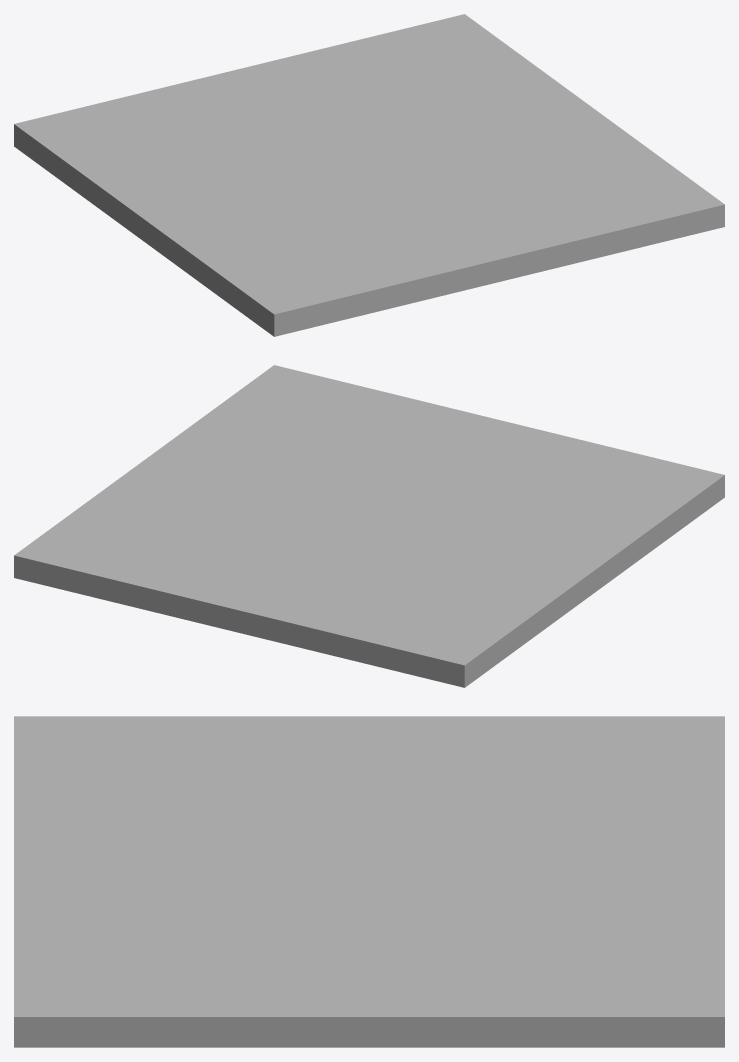
File: Road_goal.fbx
3 renders of one model, top to bottom at view 1: azimuth 30°, elevation 25°; view 2: azimuth 150°, elevation 25°; view 3: azimuth 270°, elevation 25°, orthographic. The views are drawn at different scales.
Visible parts, largest first — view 1: ObjObject.001; view 2: ObjObject.001; view 3: ObjObject.001.
Part boxes in pixels (x1,y1,x2,y2): ObjObject.001: [14, 14, 724, 336]; ObjObject.001: [14, 365, 724, 687]; ObjObject.001: [14, 716, 724, 1047].
Size of the model in its own units: 630 by 30 by 630.
1 material, 1 textured.
